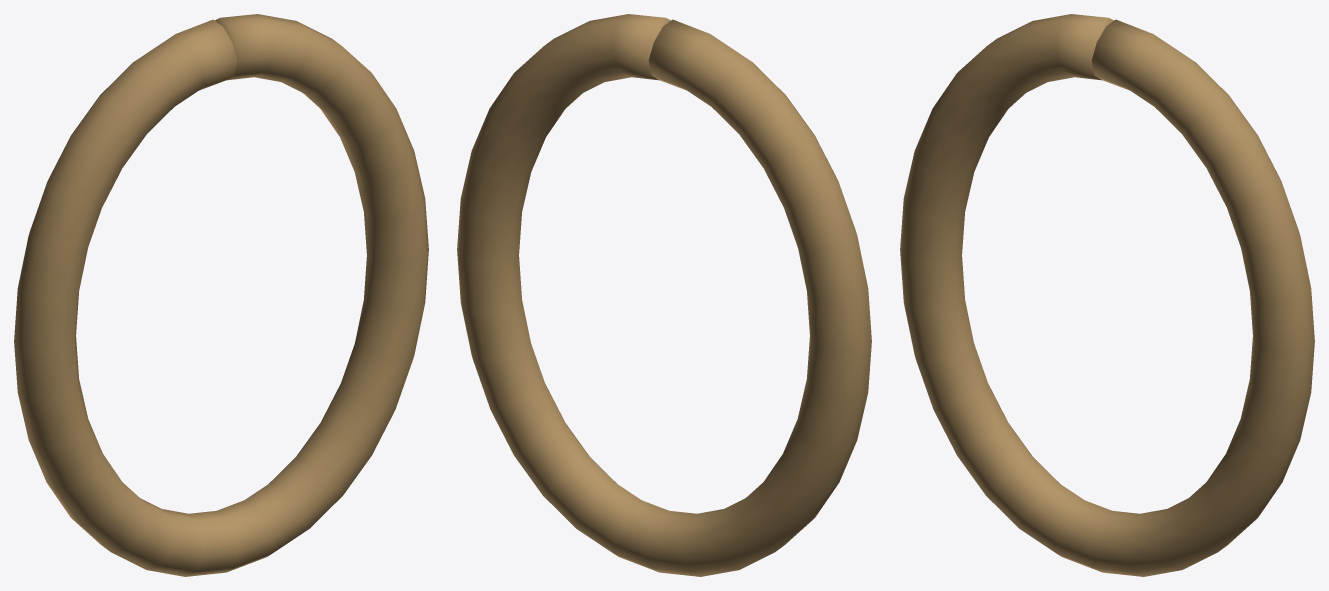
The model's file is SM_Gate_RopeLoop.fbx.
The picture shows the model from 3 angles, left to right: view 1: azimuth 30°, elevation 25°; view 2: azimuth 150°, elevation 25°; view 3: azimuth 330°, elevation 25°; orthographic projection.
Visible parts, largest first — view 1: RopeLoop_animated; view 2: RopeLoop_animated; view 3: RopeLoop_animated.
Part boxes in pixels (box(x1,y1,x2,y2)): RopeLoop_animated: box(14, 14, 428, 576); RopeLoop_animated: box(457, 14, 871, 576); RopeLoop_animated: box(900, 14, 1314, 576).
Size of the model in its own units: 20.66 by 2.8 by 26.65.
